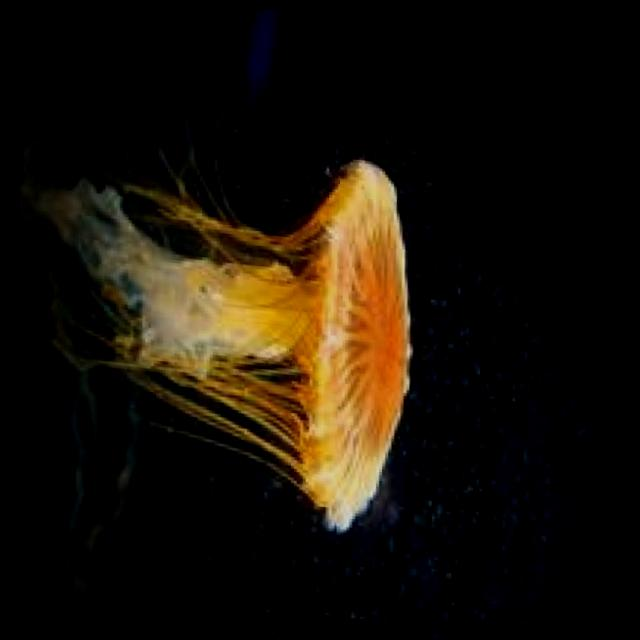Jellyfish: (3, 67, 438, 540)
